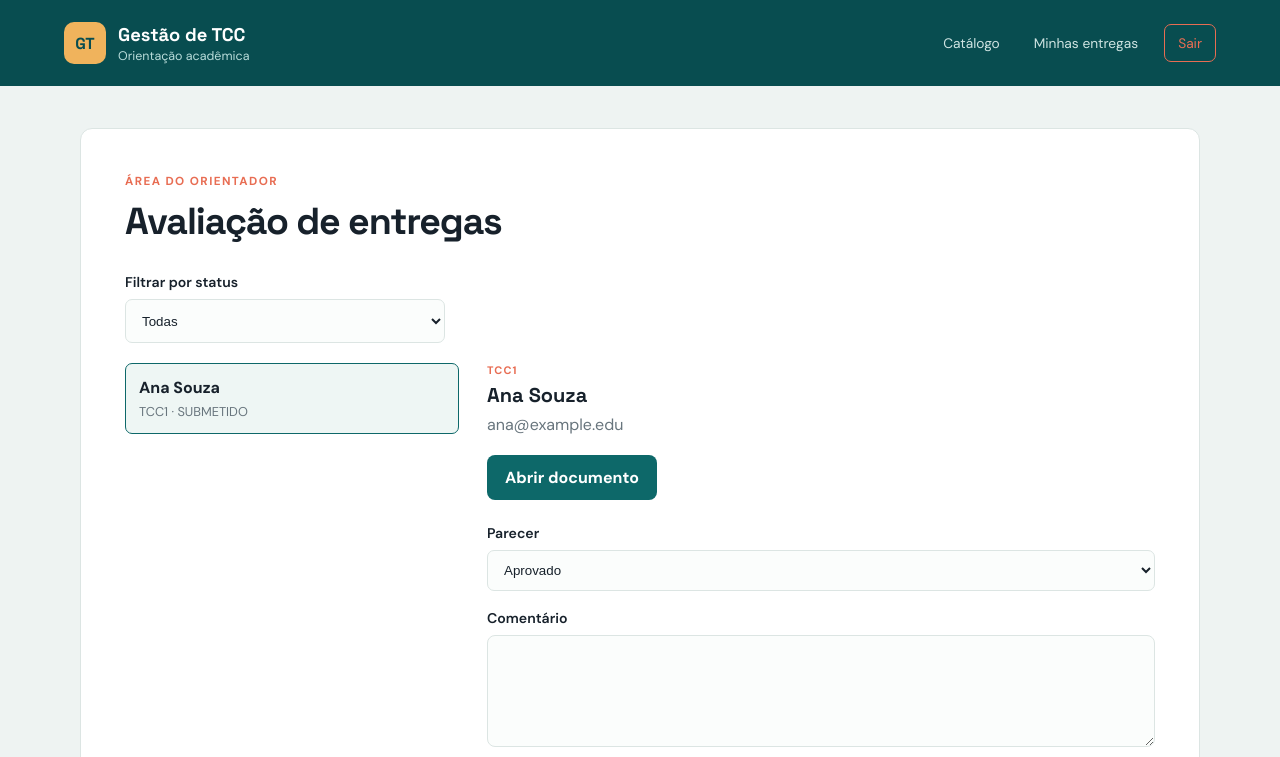
Scenario: AvaliacaoEntregaPage › exige comentário ao registrar ajustes necessários
Select "Ajustes necessários" in the dropdown labelled "Parecer" at x=821, y=570, box [487, 550, 1155, 591]
(page scrolled)
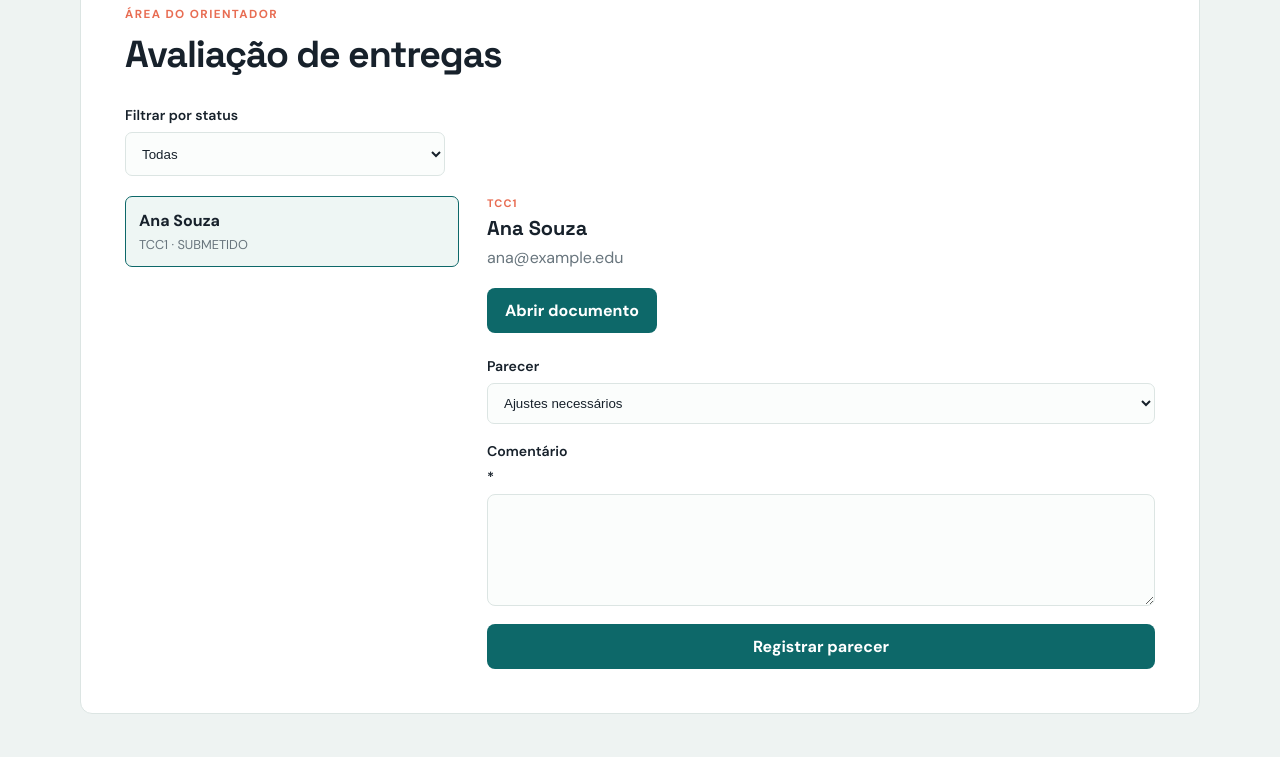
Click the button "Registrar parecer" at x=821, y=646, box [487, 624, 1155, 669]
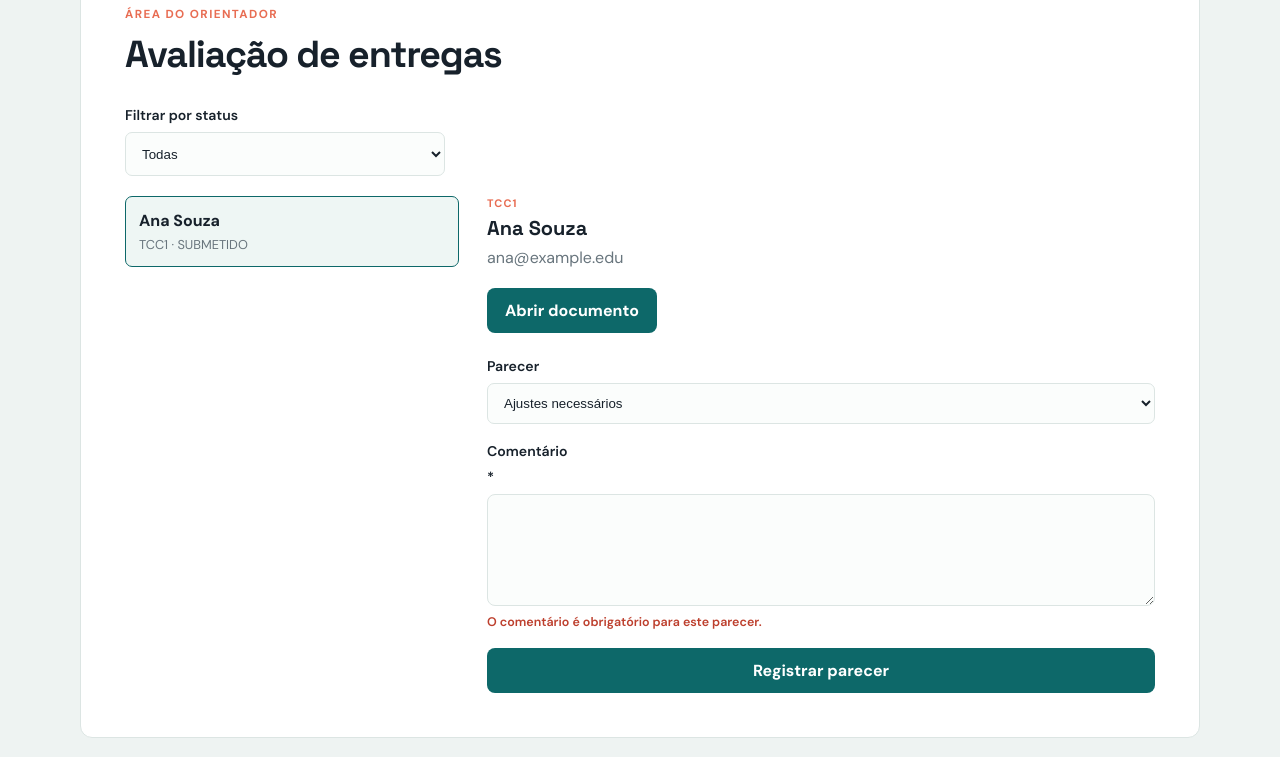
Expected: the text "O comentário é obrigatório para este parecer." is shown, [487, 614, 762, 630]
